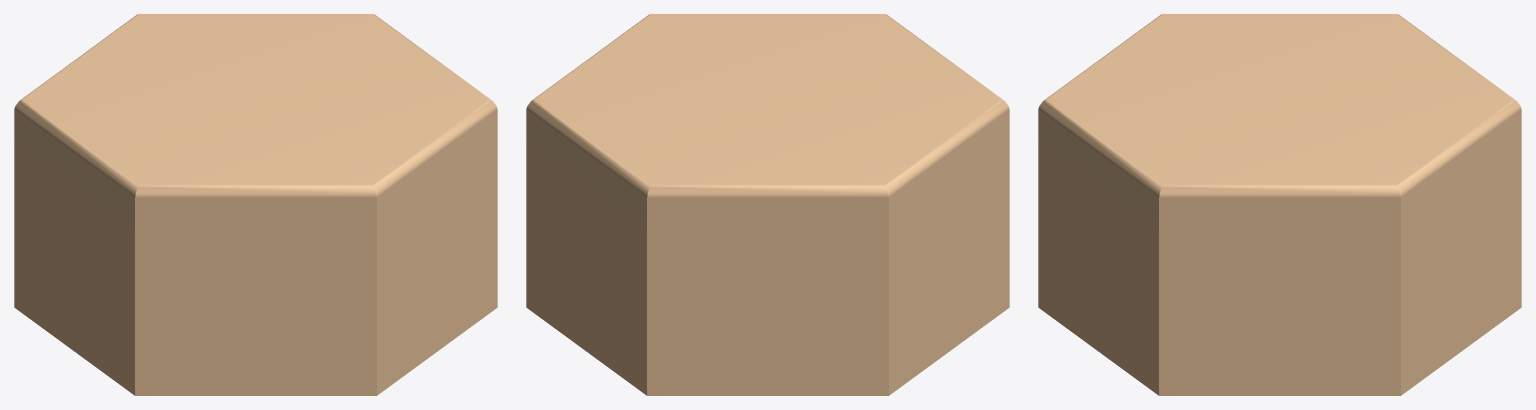
3 views of the same model, side by side, from view 1: azimuth 30°, elevation 25°; view 2: azimuth 150°, elevation 25°; view 3: azimuth 270°, elevation 25° (orthographic).
Visible parts, largest first — view 1: hexagon_none_001; view 2: hexagon_none_001; view 3: hexagon_none_001.
Part boxes in pixels (x1,y1,x2,y2): hexagon_none_001: [14, 14, 497, 395]; hexagon_none_001: [526, 14, 1009, 395]; hexagon_none_001: [1038, 14, 1521, 395].
Size of the model in its own units: 366 by 201 by 423.
Materials: 1 (1 with a texture image).
